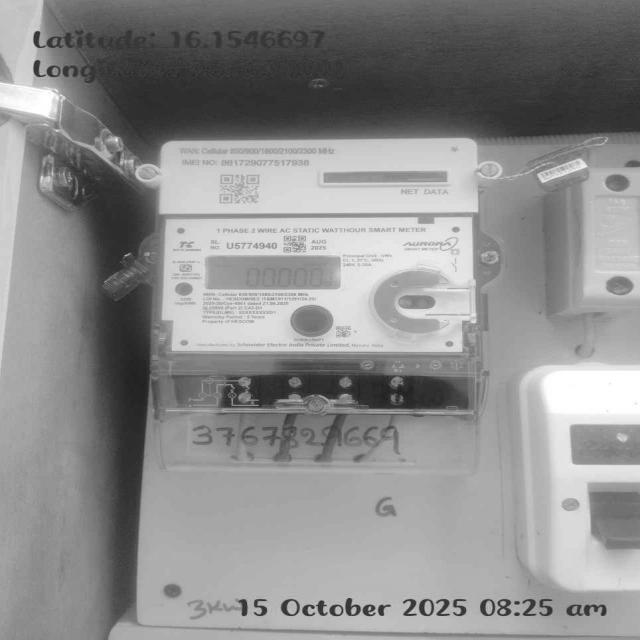meter: (164, 138, 477, 352)
